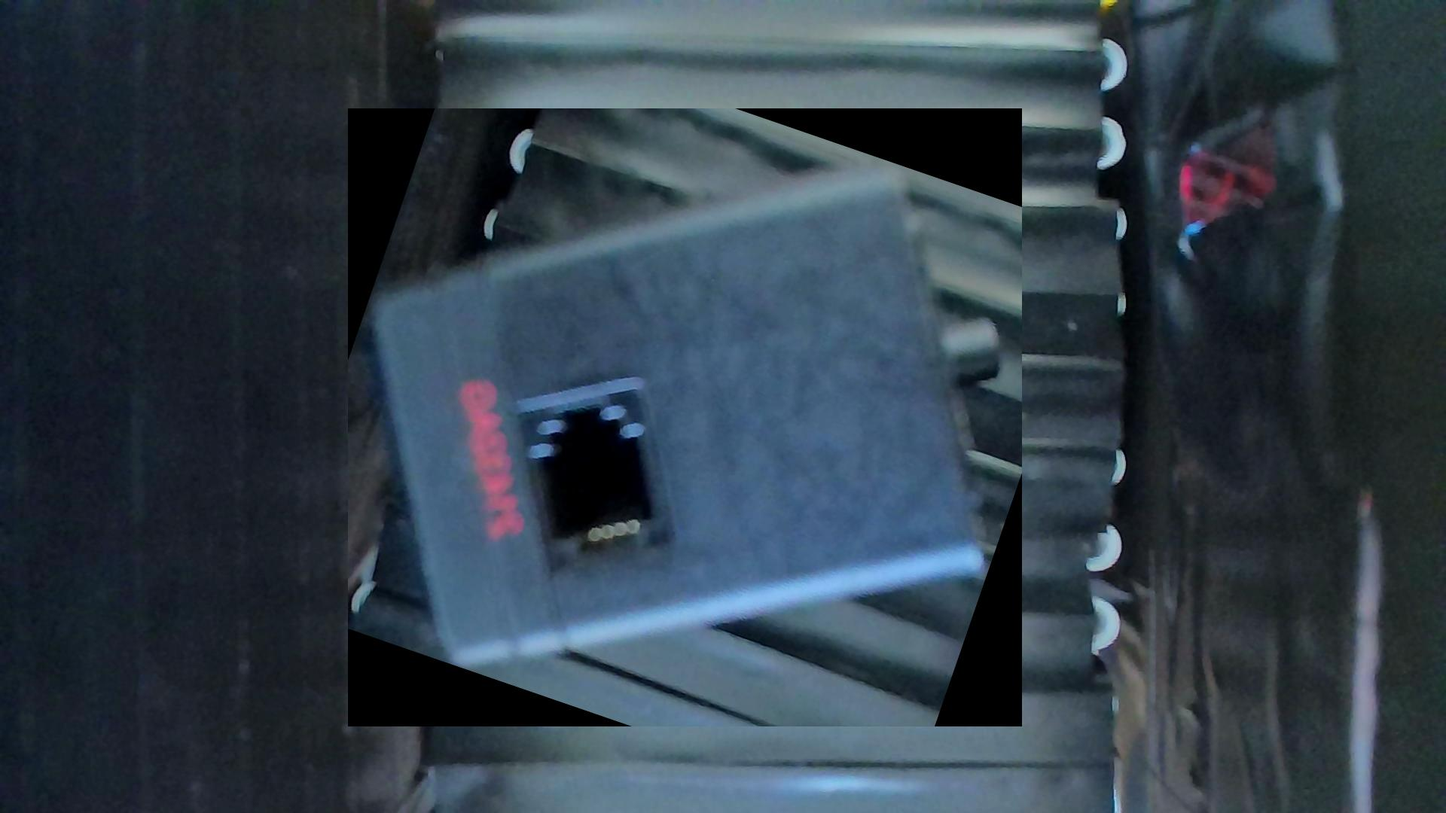motor: (348, 109, 1022, 726)
